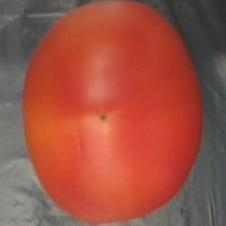unripe: (19, 0, 208, 226)
